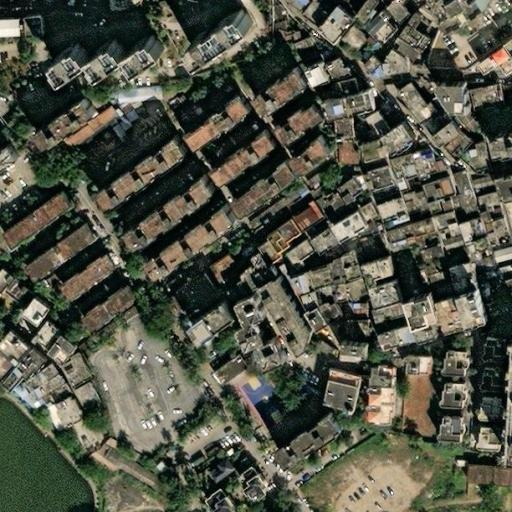building: (117, 179, 209, 250), (92, 139, 184, 210), (146, 214, 235, 283), (258, 281, 313, 361), (21, 227, 93, 285), (0, 195, 70, 253), (171, 93, 242, 149), (227, 164, 295, 222), (220, 295, 270, 371), (268, 414, 334, 467), (199, 130, 265, 183), (182, 9, 246, 63), (78, 287, 137, 337), (20, 98, 79, 144), (247, 67, 302, 113), (60, 259, 114, 303), (355, 254, 395, 307), (160, 274, 207, 317), (3, 349, 46, 395), (388, 83, 432, 127), (174, 297, 220, 339), (283, 140, 327, 180), (268, 100, 312, 140), (391, 9, 428, 54), (224, 254, 264, 295), (420, 302, 464, 339), (443, 171, 473, 224), (80, 38, 122, 75), (285, 199, 326, 236), (113, 76, 164, 105), (44, 43, 83, 78), (399, 377, 422, 436), (333, 21, 370, 57), (119, 36, 157, 70), (82, 97, 120, 131), (367, 370, 390, 426), (74, 132, 113, 165), (395, 291, 429, 328), (361, 15, 396, 50), (31, 373, 67, 407), (419, 178, 450, 217), (261, 222, 296, 256), (21, 360, 56, 394), (275, 239, 308, 273), (54, 396, 87, 429), (415, 108, 449, 140), (432, 124, 467, 155), (331, 217, 367, 247), (469, 298, 498, 335), (384, 127, 417, 159), (196, 254, 230, 285), (462, 466, 512, 487), (459, 237, 488, 273), (442, 0, 491, 21), (403, 217, 435, 249), (323, 384, 358, 413), (301, 229, 336, 258), (347, 0, 383, 28), (57, 357, 87, 390), (238, 470, 267, 504), (376, 328, 412, 355), (328, 178, 359, 209), (377, 0, 408, 31), (307, 305, 337, 337), (375, 224, 409, 252), (311, 14, 341, 44), (23, 300, 53, 330), (31, 323, 61, 353), (426, 80, 457, 109), (198, 457, 229, 486), (475, 216, 502, 249), (428, 212, 457, 242), (407, 154, 438, 182), (47, 336, 78, 364), (467, 190, 494, 222), (394, 188, 421, 220), (483, 50, 512, 79), (435, 235, 463, 265), (481, 128, 512, 155), (446, 265, 473, 296), (372, 198, 401, 226), (358, 165, 387, 193), (488, 169, 512, 201), (302, 162, 330, 189), (394, 272, 423, 298), (285, 38, 311, 67), (384, 37, 413, 63), (419, 273, 445, 301), (377, 49, 405, 75), (0, 154, 25, 183), (476, 400, 506, 423), (474, 431, 505, 453), (439, 385, 465, 411), (304, 266, 330, 292), (13, 385, 40, 410), (42, 408, 66, 436), (453, 218, 479, 243), (479, 371, 507, 394), (362, 113, 385, 141), (410, 242, 439, 264), (438, 419, 463, 444), (251, 243, 276, 268), (288, 273, 311, 300), (441, 353, 466, 377), (310, 52, 336, 75), (202, 492, 231, 512), (295, 59, 319, 83), (319, 193, 342, 218), (70, 383, 93, 408), (480, 342, 507, 363), (462, 172, 486, 195), (473, 87, 497, 110), (351, 52, 375, 75), (482, 244, 505, 267), (325, 5, 348, 27), (338, 320, 362, 341), (338, 256, 357, 282), (465, 142, 482, 171), (355, 142, 377, 164), (331, 141, 352, 164), (488, 262, 512, 282), (328, 374, 360, 389), (508, 338, 512, 458), (331, 118, 351, 142), (405, 358, 428, 378), (330, 81, 355, 99), (350, 97, 375, 115), (327, 259, 343, 287), (354, 203, 375, 224), (263, 260, 284, 281), (28, 18, 49, 39), (364, 308, 381, 333), (337, 282, 356, 304), (329, 303, 356, 318), (327, 102, 352, 118), (326, 0, 353, 14), (299, 294, 318, 313), (389, 167, 404, 191), (330, 340, 352, 356), (492, 276, 512, 293), (398, 164, 413, 181), (310, 287, 326, 302), (504, 243, 512, 269), (325, 289, 338, 303), (2, 0, 33, 5)
